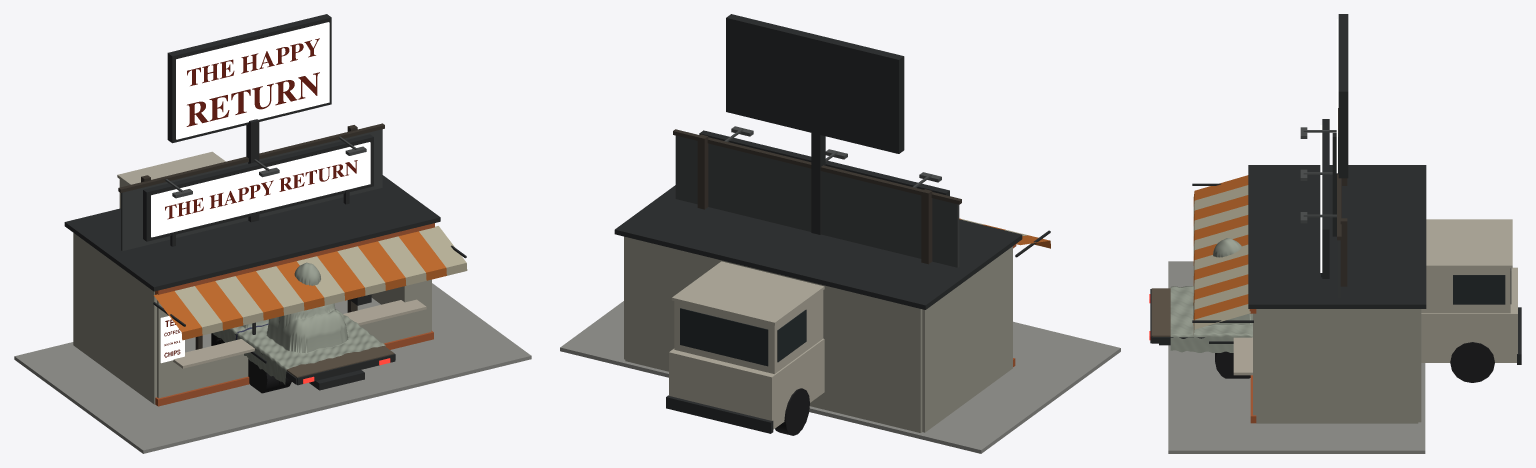
File: road-cast.glb
3 views of the same model, side by side, from view 1: azimuth 30°, elevation 25°; view 2: azimuth 150°, elevation 25°; view 3: azimuth 270°, elevation 25° (orthographic). The views are drawn at different scales.
Parts seen in each view (by area): view 1: rc_stand, rc_pole_glow, rc_tarp, rc_hoarding, rc_flatbed, rc_pole_sign, rc_letters_pole, rc_letters_roof; view 2: rc_stand, rc_flatbed, rc_hoarding, rc_pole_sign; view 3: rc_stand, rc_flatbed, rc_tarp, rc_pole_sign, rc_hoarding.
Boxes of the visible parts, x1=… form: rc_stand: x1=14, y1=134, x2=531, y2=453; rc_pole_glow: x1=176, y1=22, x2=329, y2=139; rc_tarp: x1=212, y1=262, x2=385, y2=384; rc_hoarding: x1=118, y1=123, x2=384, y2=312; rc_flatbed: x1=117, y1=151, x2=395, y2=393; rc_pole_sign: x1=167, y1=14, x2=331, y2=222; rc_letters_pole: x1=186, y1=38, x2=319, y2=126; rc_letters_roof: x1=165, y1=160, x2=357, y2=219; rc_stand: x1=560, y1=130, x2=1120, y2=453; rc_flatbed: x1=666, y1=261, x2=824, y2=435; rc_hoarding: x1=673, y1=126, x2=961, y2=267; rc_pole_sign: x1=726, y1=14, x2=904, y2=234; rc_stand: x1=1168, y1=119, x2=1426, y2=453; rc_flatbed: x1=1150, y1=219, x2=1521, y2=382; rc_tarp: x1=1170, y1=238, x2=1252, y2=352; rc_pole_sign: x1=1332, y1=14, x2=1348, y2=236; rc_hoarding: x1=1300, y1=108, x2=1347, y2=297.
Size of what is drawn, in the model's own units: 9.4 by 7.11 by 7.82.
Materials: 38 (15 with a texture image).
